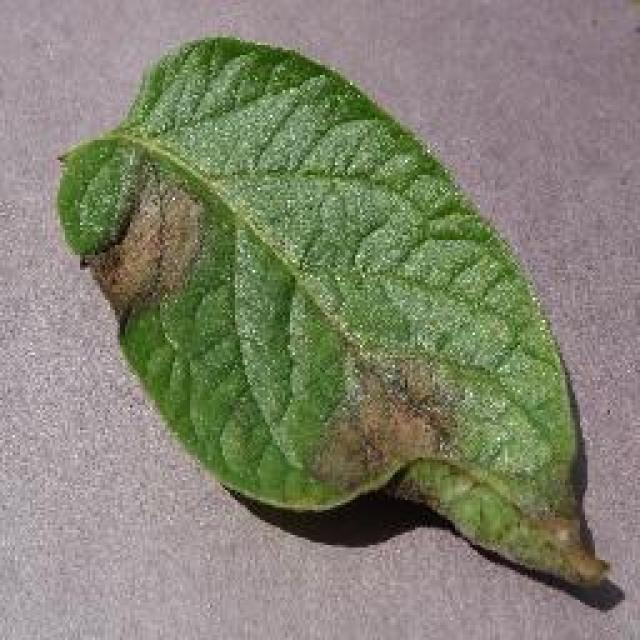Potato___Late_blight: (51, 33, 618, 594)
